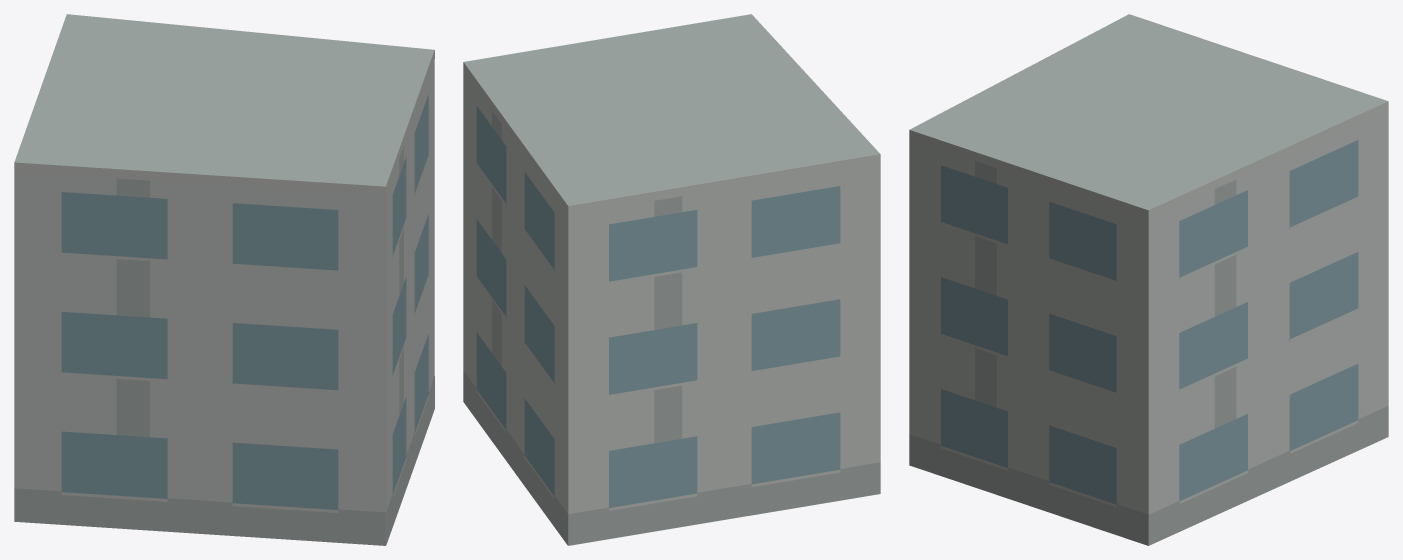
The model's file is residential-c056b447-675f-4f2c-afe2-f7194b479b1a.glb.
3 renders of one model, left to right at view 1: azimuth 30°, elevation 25°; view 2: azimuth 150°, elevation 25°; view 3: azimuth 270°, elevation 25°, orthographic. The views are drawn at different scales.
Visible parts, largest first — view 1: residential-c056b447-675f-4f2c-afe2-f7194b479b1a.tmp; view 2: residential-c056b447-675f-4f2c-afe2-f7194b479b1a.tmp; view 3: residential-c056b447-675f-4f2c-afe2-f7194b479b1a.tmp.
Part boxes in pixels (box(x1,y1,x2,y2)): residential-c056b447-675f-4f2c-afe2-f7194b479b1a.tmp: box(14, 14, 434, 545); residential-c056b447-675f-4f2c-afe2-f7194b479b1a.tmp: box(463, 14, 880, 545); residential-c056b447-675f-4f2c-afe2-f7194b479b1a.tmp: box(909, 14, 1388, 545).
Size of the model in its own units: 11.49 by 9.15 by 11.85.
